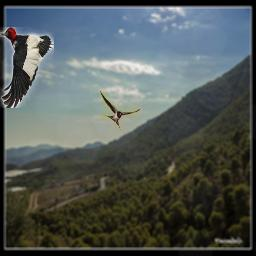Swallow: (100, 90, 140, 130)
Woodpecker: (0, 27, 54, 108)
